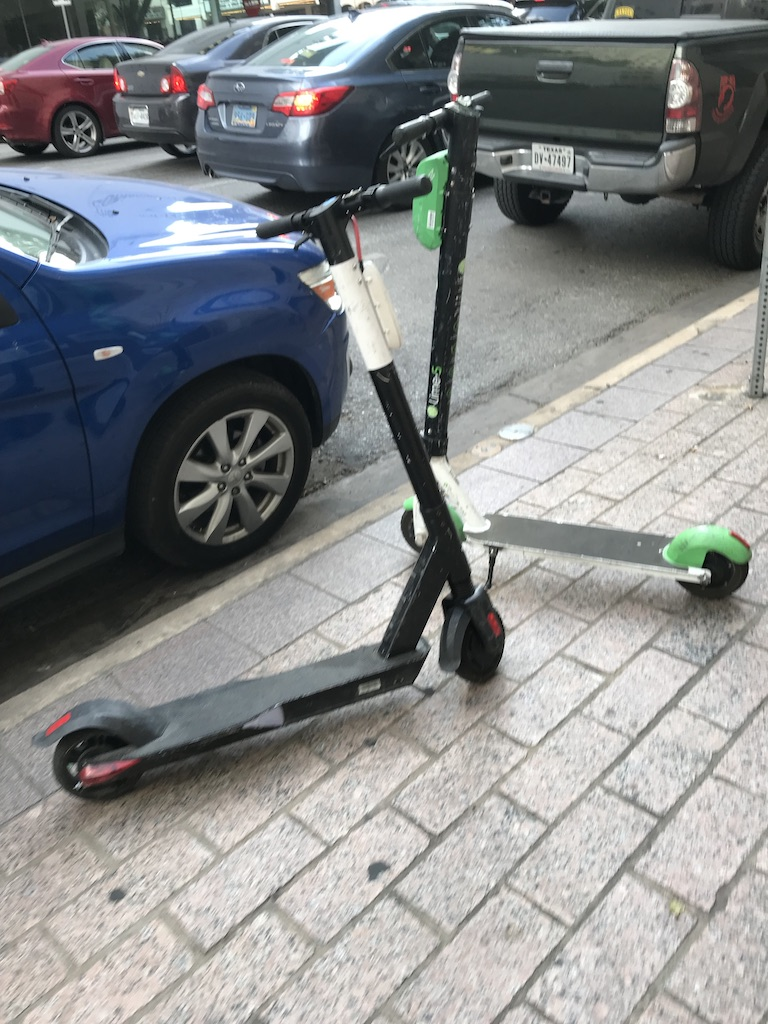scooter: (35, 175, 507, 803), (389, 92, 754, 600)
